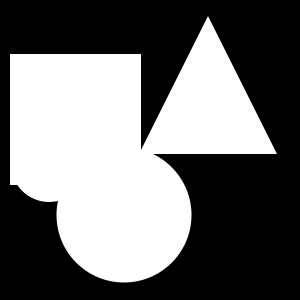circle: (10, 54, 141, 185)
rectangle: (56, 148, 192, 282), (11, 126, 87, 202)
triangle: (139, 16, 277, 154)
